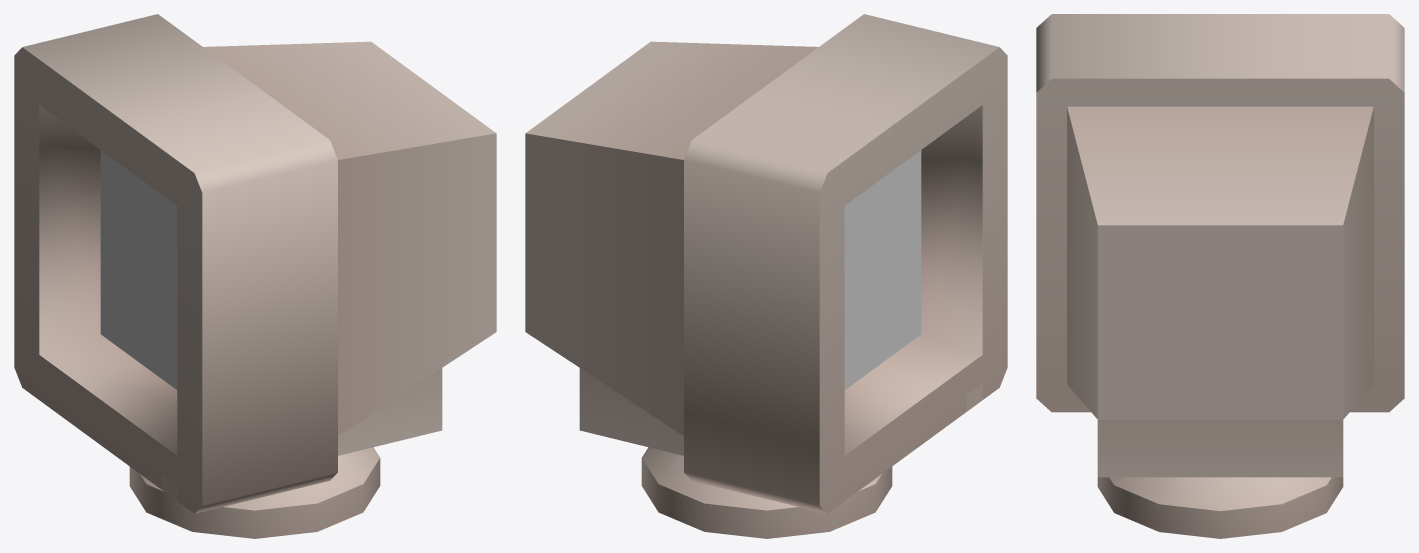
Rendered from crt-monitor.glb.
3 views of the same model, side by side, from view 1: azimuth 30°, elevation 25°; view 2: azimuth 150°, elevation 25°; view 3: azimuth 270°, elevation 25° (orthographic). The views are drawn at different scales.
Visible parts, largest first — view 1: crt-monitor; view 2: crt-monitor; view 3: crt-monitor.
Part boxes in pixels (box(x1,y1,x2,y2)): crt-monitor: box(14, 14, 496, 538); crt-monitor: box(525, 14, 1007, 538); crt-monitor: box(1036, 14, 1404, 538).
Bounding box in the file's own units: 0.486 × 0.5872 × 0.486.
